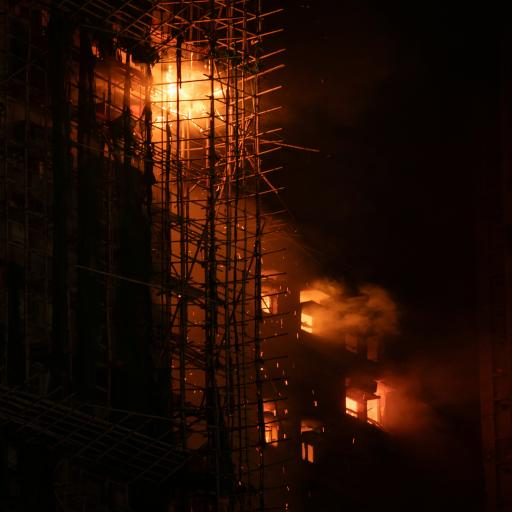buildingfire: (17, 4, 479, 512)
